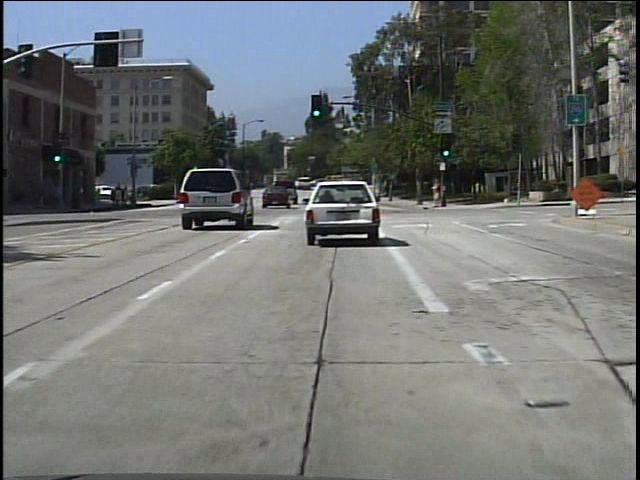person: (427, 174, 443, 209), (112, 179, 125, 208), (127, 182, 128, 209)
